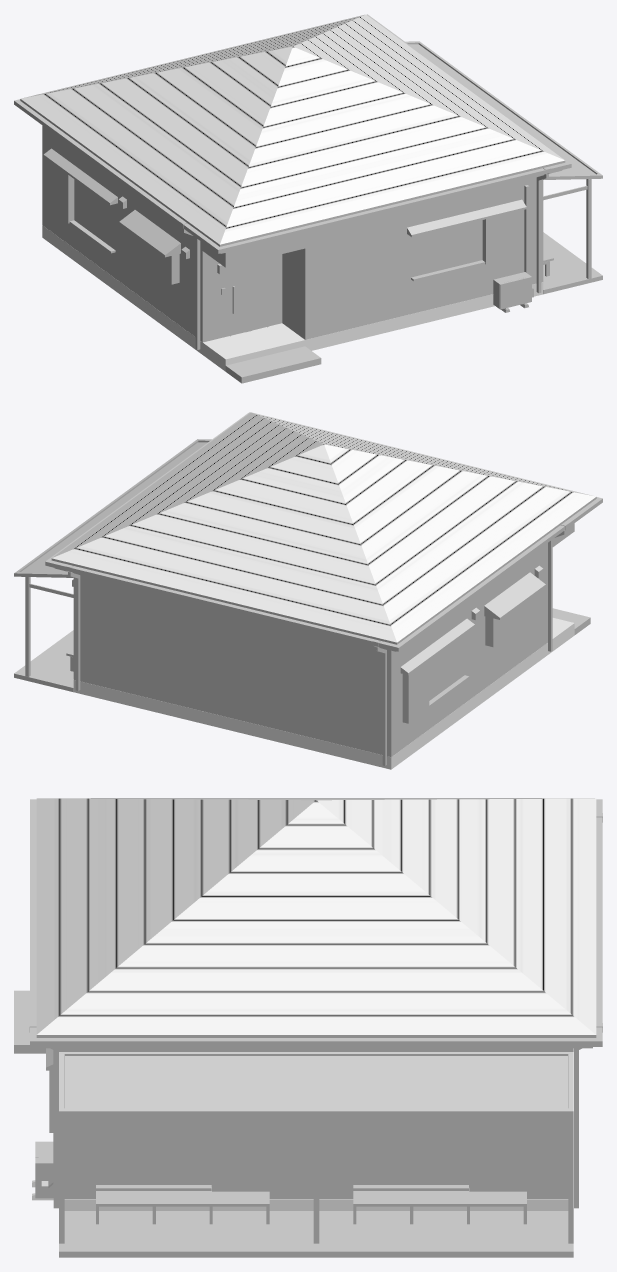
File: House_2021_K.fbx
The picture shows the model from 3 angles, top to bottom: view 1: azimuth 30°, elevation 25°; view 2: azimuth 150°, elevation 25°; view 3: azimuth 270°, elevation 25°; orthographic projection. The views are drawn at different scales.
Visible parts, largest first — view 1: House_2021_K; view 2: House_2021_K; view 3: House_2021_K.
Part boxes in pixels (box(x1,y1,x2,y2)): House_2021_K: box(14, 14, 602, 383); House_2021_K: box(14, 412, 602, 769); House_2021_K: box(14, 798, 602, 1257).
Bounding box in the file's own units: 995 × 528 × 916.
